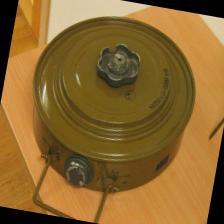TM-46: (18, 12, 214, 191)
